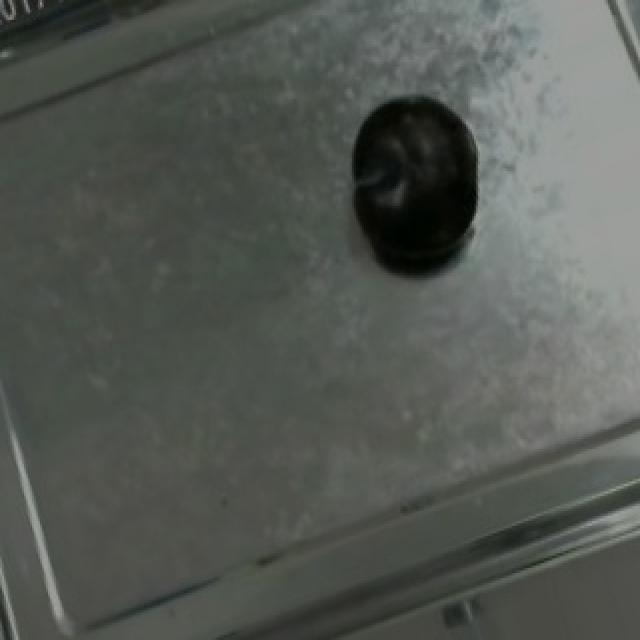Fruit: (330, 77, 496, 280)
